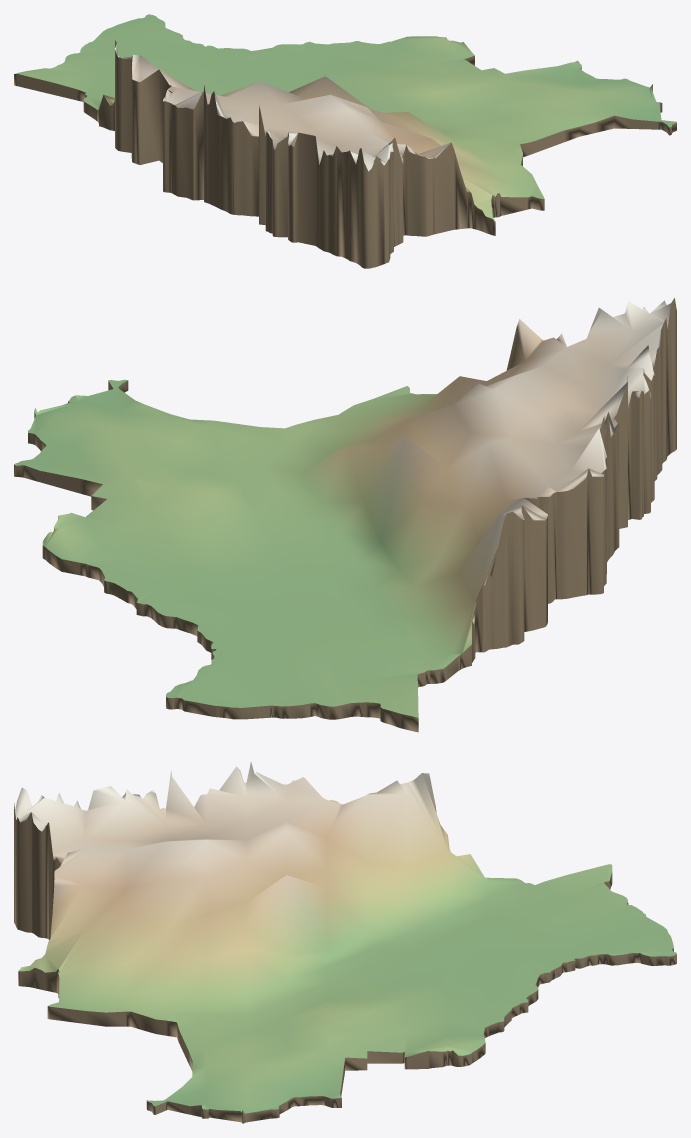
Rendered from BOL.glb.
3 views of the same model, one above another, from view 1: azimuth 30°, elevation 25°; view 2: azimuth 150°, elevation 25°; view 3: azimuth 270°, elevation 25° (orthographic). The views are drawn at different scales.
Visible parts, largest first — view 1: BOL; view 2: BOL; view 3: BOL.
Part boxes in pixels (left/top/right/bottom): BOL: left=14, top=14, right=676, bottom=268; BOL: left=14, top=298, right=676, bottom=732; BOL: left=14, top=762, right=676, bottom=1123.
Bounding box in the file's own units: 1.39 × 0.338 × 1.58.
